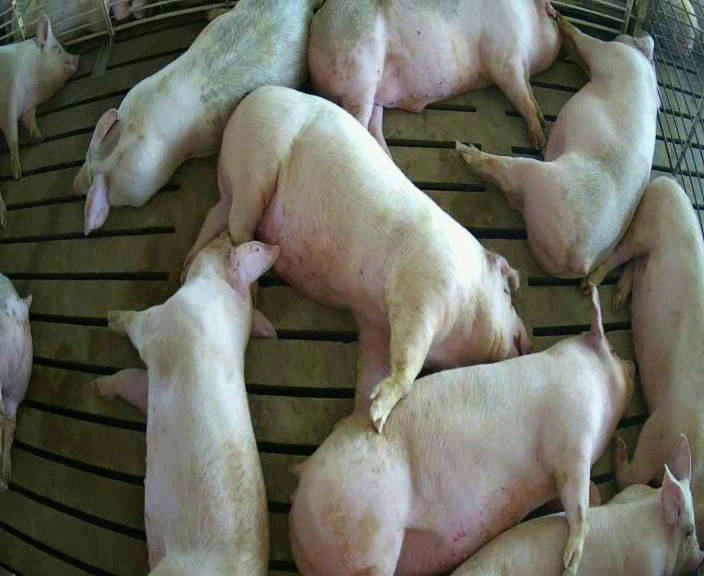pig: (188, 86, 528, 430), (290, 288, 634, 573), (93, 237, 277, 574), (74, 2, 312, 233), (457, 20, 658, 277), (581, 177, 703, 544), (308, 2, 560, 151), (0, 16, 78, 178)
